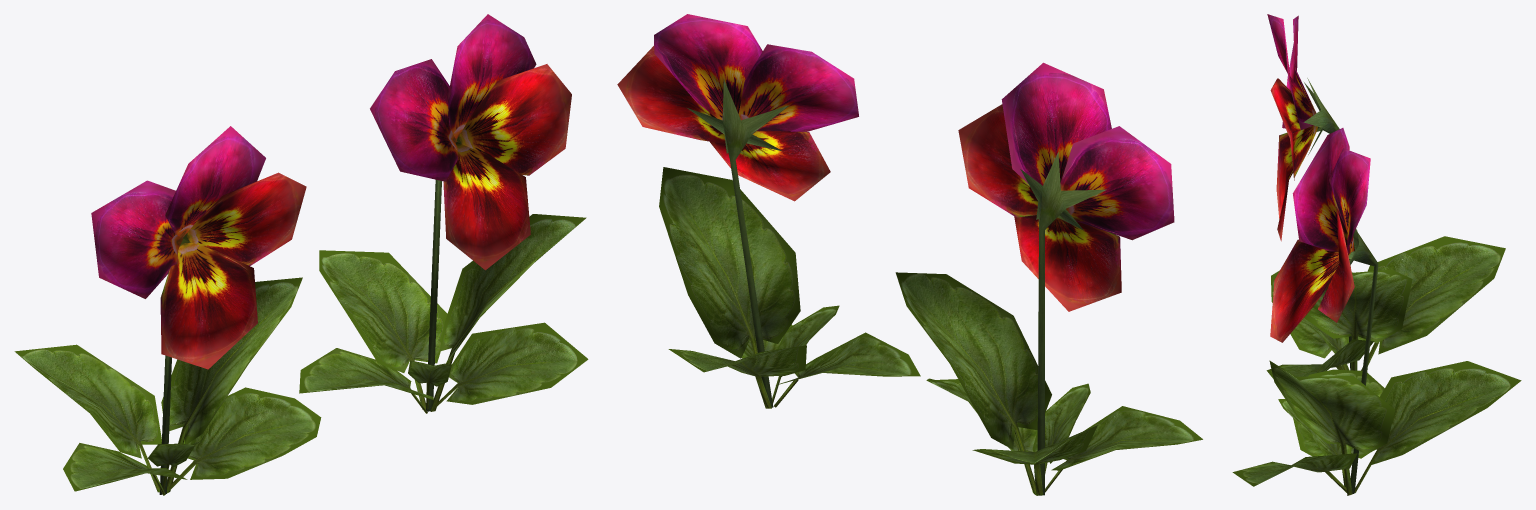
Rendered from Pansy_m.FBX.
The picture shows the model from 3 angles, left to right: view 1: azimuth 30°, elevation 25°; view 2: azimuth 150°, elevation 25°; view 3: azimuth 270°, elevation 25°; orthographic projection. The views are drawn at different scales.
Parts seen in each view (by area): view 1: pansy001, pansy; view 2: pansy, pansy001; view 3: pansy001, pansy.
Part boxes in pixels (x1,y1,x2,y2): pansy001: (299, 14, 588, 413); pansy: (14, 126, 321, 495); pansy: (895, 62, 1202, 495); pansy001: (617, 14, 920, 408); pansy001: (1232, 128, 1521, 495); pansy: (1266, 14, 1505, 378).
Size of the model in its own units: 85.14 by 59.8 by 40.5.
